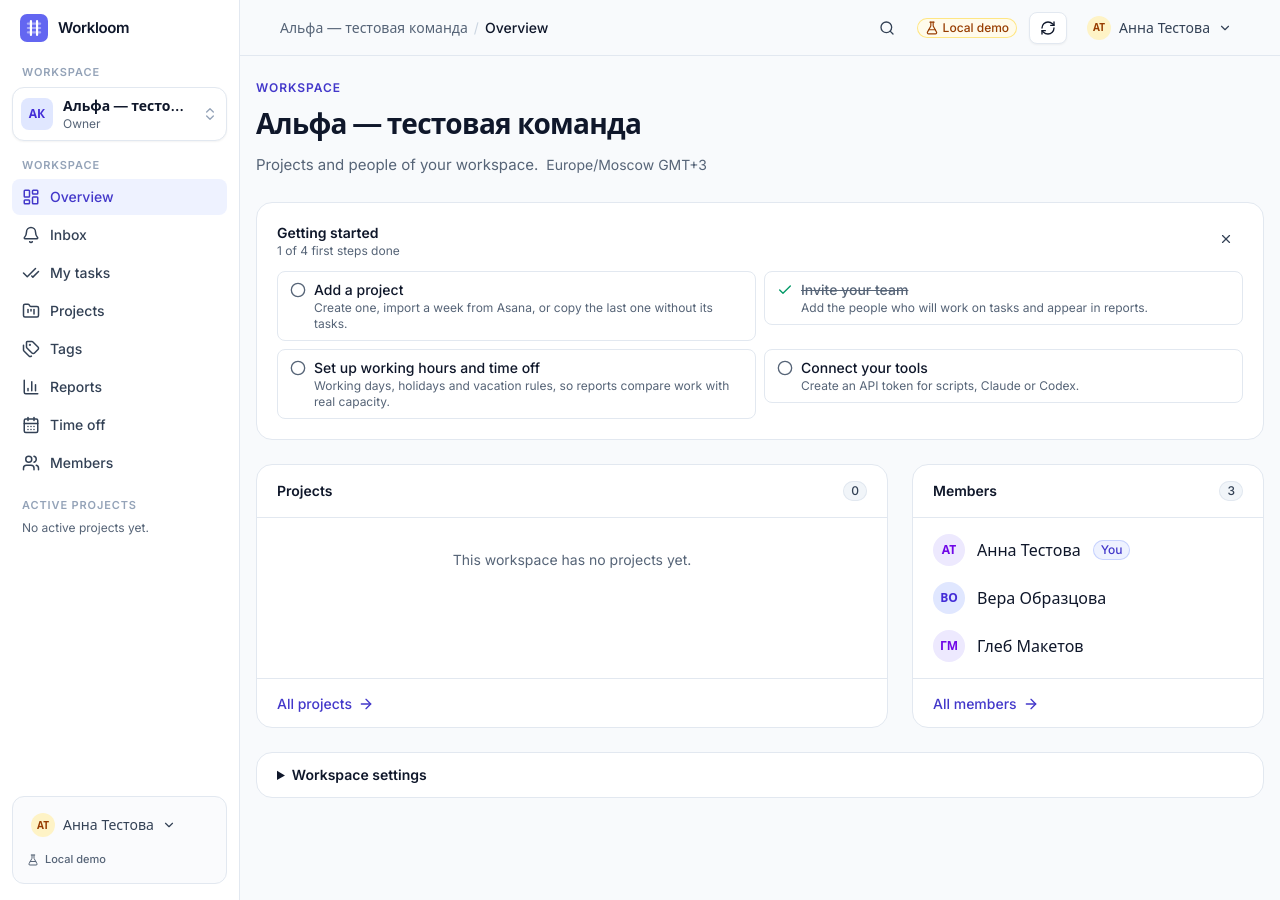
inbox › says so when nothing happened
The width and height of the screenshot is (1280, 900).
Click the link "Inbox" at (54, 235), box [22, 226, 87, 244]
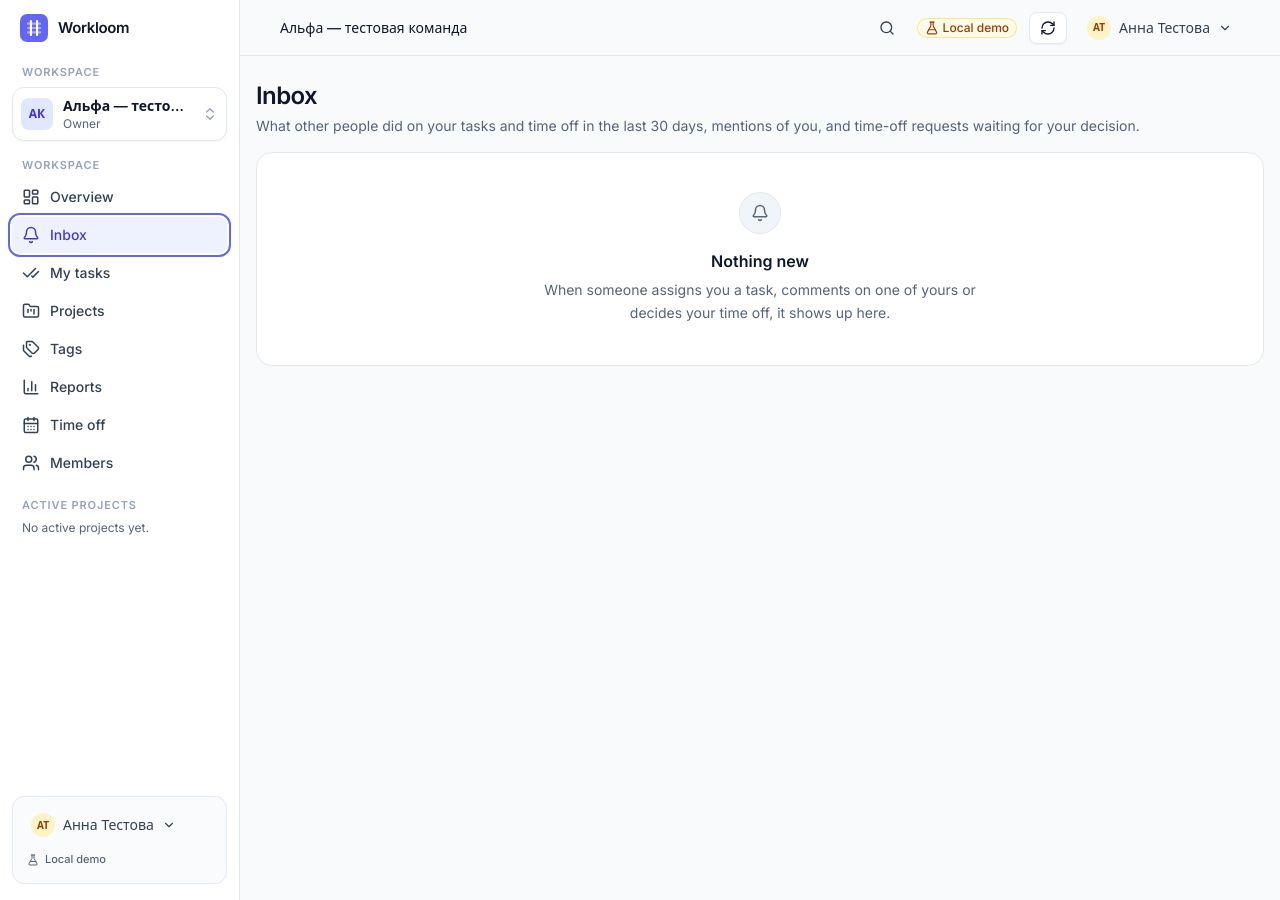
Check: the heading "Nothing new" is shown, box [711, 249, 809, 273]
